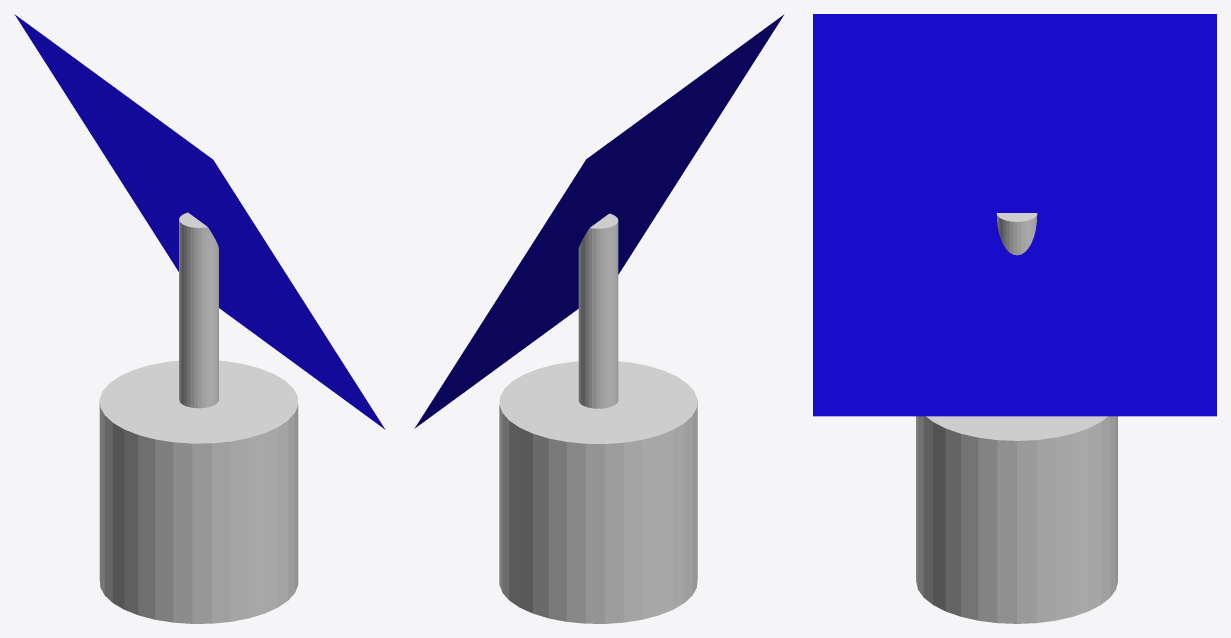
The model's file is solar_panel.fbx.
3 views of the same model, side by side, from view 1: azimuth 30°, elevation 25°; view 2: azimuth 150°, elevation 25°; view 3: azimuth 270°, elevation 25° (orthographic).
Parts seen in each view (by area): view 1: base, panel, rod; view 2: base, panel, rod; view 3: panel, base, rod.
Part boxes in pixels (left/top/right/bottom): base: left=99, top=360, right=298, bottom=623; panel: left=14, top=14, right=385, bottom=429; rod: left=179, top=212, right=218, bottom=408; base: left=499, top=361, right=697, bottom=623; panel: left=414, top=14, right=784, bottom=428; rod: left=578, top=213, right=618, bottom=408; panel: left=813, top=14, right=1216, bottom=416; base: left=916, top=416, right=1117, bottom=623; rod: left=996, top=213, right=1037, bottom=255.
Bounding box in the file's own units: 200 × 287 × 100.
